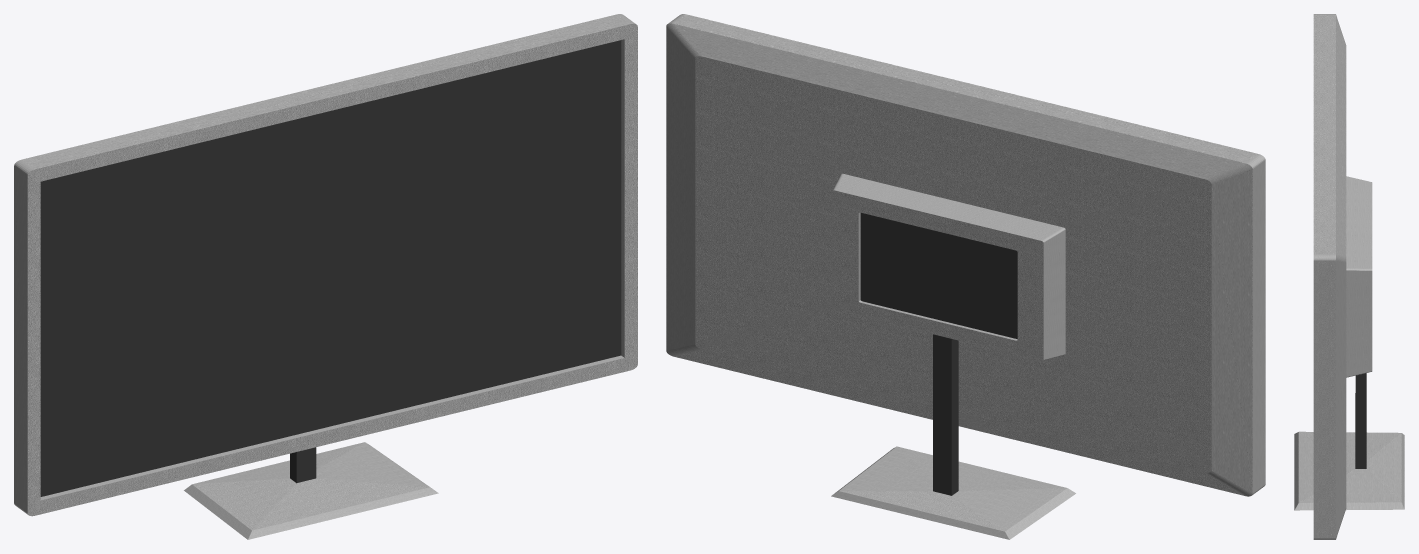
Rendered from screen-00000.glb.
3 views of the same model, side by side, from view 1: azimuth 30°, elevation 25°; view 2: azimuth 150°, elevation 25°; view 3: azimuth 270°, elevation 25° (orthographic). The views are drawn at different scales.
Parts seen in each view (by area): view 1: Cube.019; view 2: Cube.019; view 3: Cube.019.
Part boxes in pixels (x1,y1,x2,y2): Cube.019: (14,14,637,539); Cube.019: (666,14,1265,539); Cube.019: (1294,14,1404,539).
Size of the model in its own units: 0.6503 by 0.4187 by 0.1234.
Materials: 2 (1 with a texture image).
